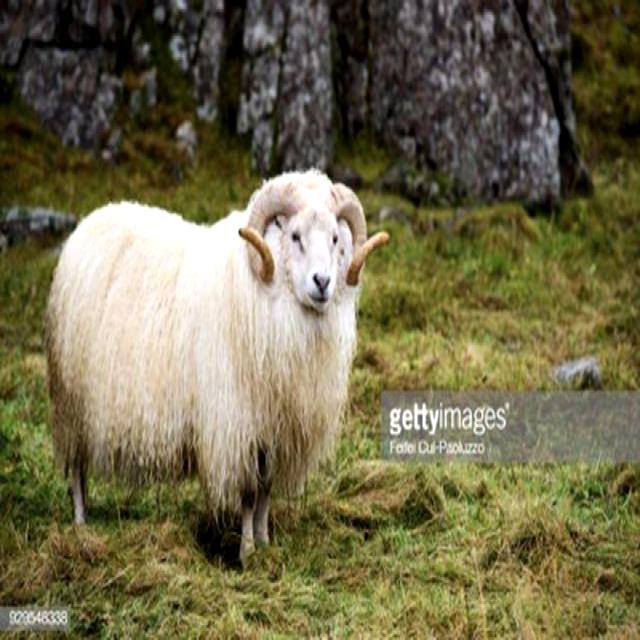sheep: (44, 168, 391, 570)
